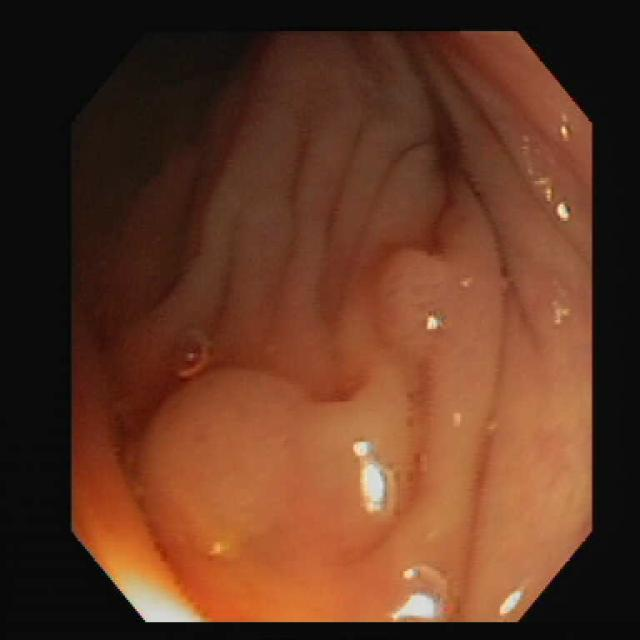tumor: (145, 369, 362, 544), (378, 249, 473, 338)
